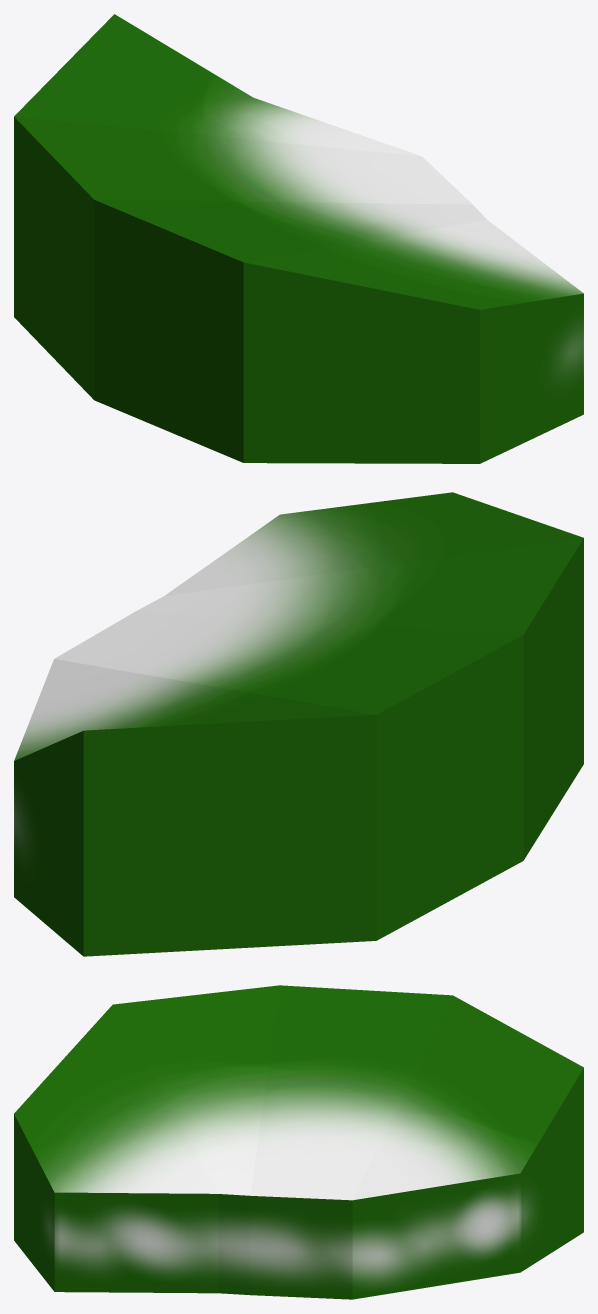
File: CapsicumFlakeGreen.fbx
The picture shows the model from 3 angles, top to bottom: view 1: azimuth 30°, elevation 25°; view 2: azimuth 150°, elevation 25°; view 3: azimuth 270°, elevation 25°; orthographic projection. The views are drawn at different scales.
Visible parts, largest first — view 1: CapsicumFlakeGreen; view 2: CapsicumFlakeGreen; view 3: CapsicumFlakeGreen.
Part boxes in pixels (x1,y1,x2,y2): CapsicumFlakeGreen: (14,14,583,463); CapsicumFlakeGreen: (14,492,583,956); CapsicumFlakeGreen: (14,985,583,1299).
Size of the model in its own units: 2.57 by 1.33 by 4.15.
